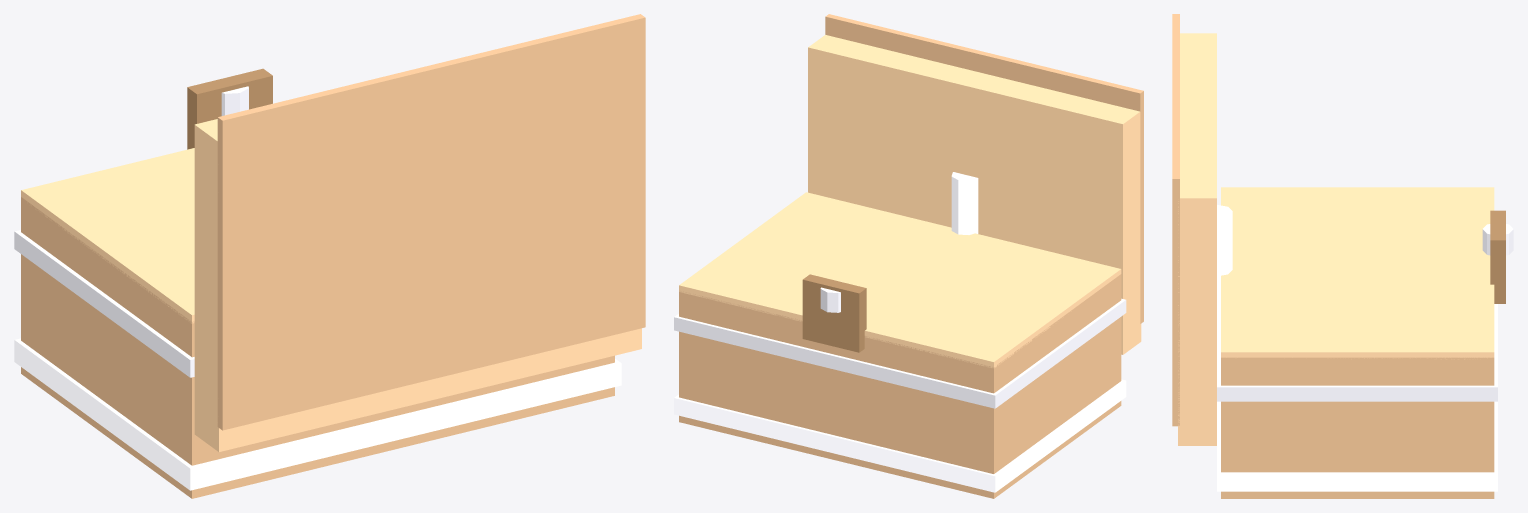
The model's file is chest_3.glb.
The picture shows the model from 3 angles, left to right: view 1: azimuth 30°, elevation 25°; view 2: azimuth 150°, elevation 25°; view 3: azimuth 270°, elevation 25°; orthographic projection. The views are drawn at different scales.
Parts seen in each view (by area): view 1: chest_tilt90; view 2: chest_tilt90; view 3: chest_tilt90.
Boxes of the visible parts, <box> form: chest_tilt90: <box>14,14,645,498</box>; chest_tilt90: <box>674,14,1143,498</box>; chest_tilt90: <box>1172,14,1513,498</box>.
Bounding box in the file's own units: 1.02 × 0.905 × 0.875.
